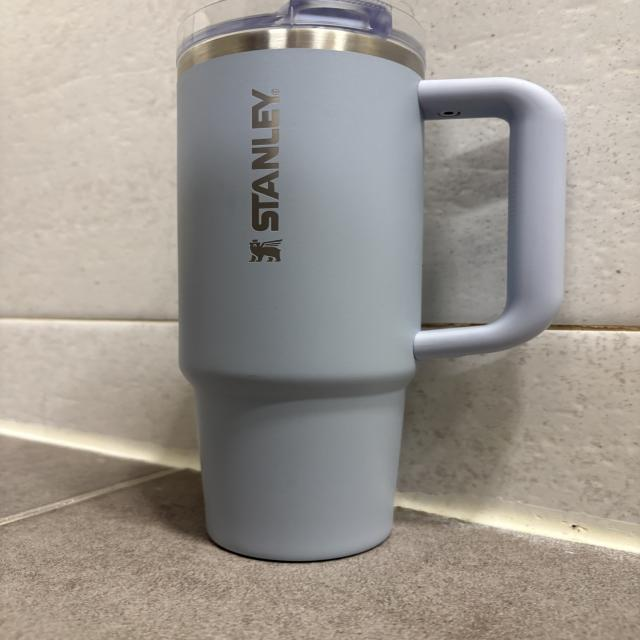waterbottle: (178, 1, 566, 561)
